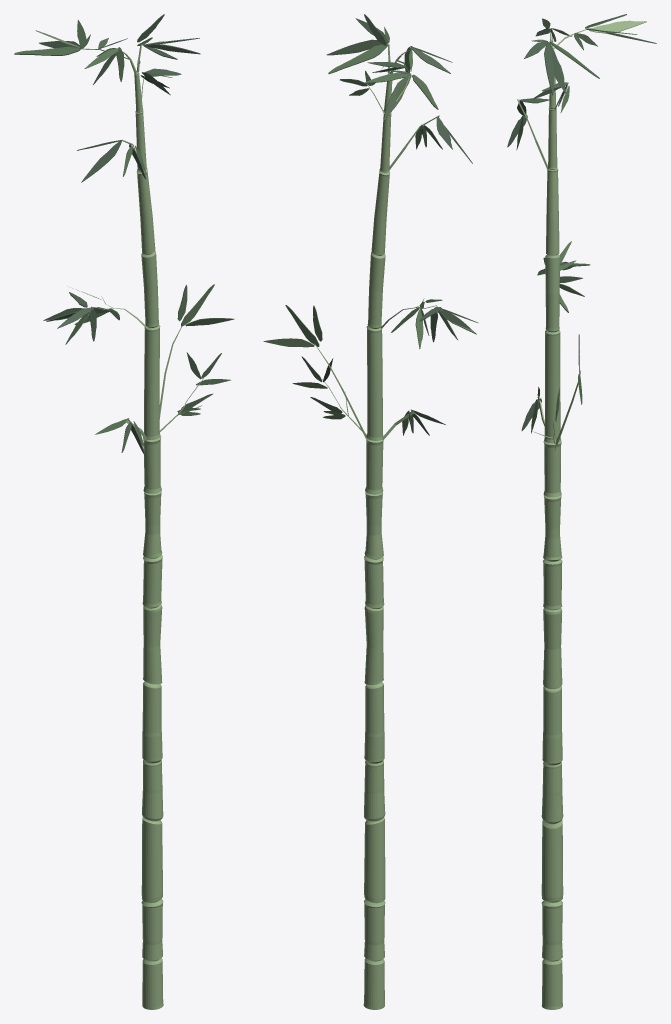
File: bamboo2-1.fbx
3 views of the same model, side by side, from view 1: azimuth 30°, elevation 25°; view 2: azimuth 150°, elevation 25°; view 3: azimuth 270°, elevation 25° (orthographic).
Parts seen in each view (by area): view 1: Cylinder.002; view 2: Cylinder.002; view 3: Cylinder.002.
Boxes of the visible parts, x1,y1,x2,y2 form: Cylinder.002: (14, 14, 234, 1009); Cylinder.002: (263, 14, 478, 1009); Cylinder.002: (507, 14, 656, 1009).
Bounding box in the file's own units: 2044 × 9737 × 1341.
